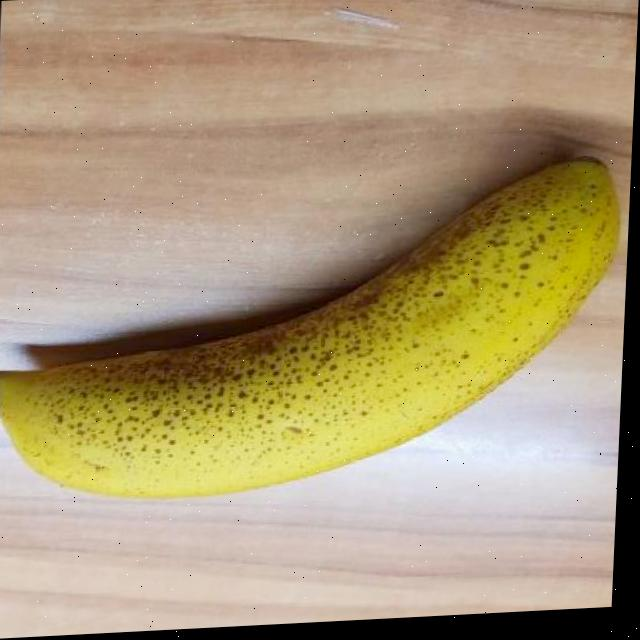banana: (0, 156, 617, 506)
